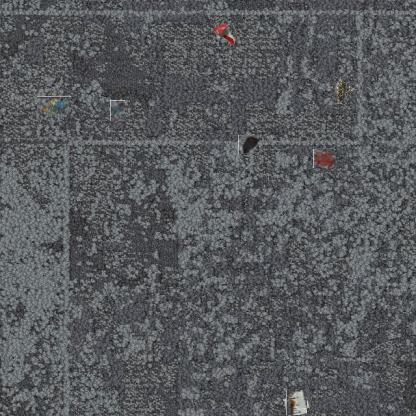dirty: (41, 93, 68, 120), (284, 392, 309, 416), (212, 22, 236, 46), (330, 79, 352, 101), (110, 100, 125, 121)
liquid: (239, 134, 259, 155), (314, 148, 334, 169)
